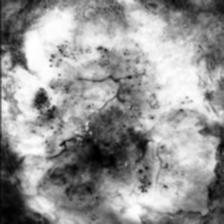Potentially Malignant Skin Tumors: (42, 30, 150, 204)
